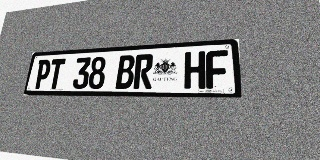3: (72, 57, 91, 89)
8: (88, 56, 107, 89)
B: (115, 55, 135, 89)
F: (206, 50, 229, 89)
H: (184, 51, 205, 89)
P: (33, 59, 52, 89)
R: (133, 54, 154, 89)
T: (47, 58, 66, 89)
